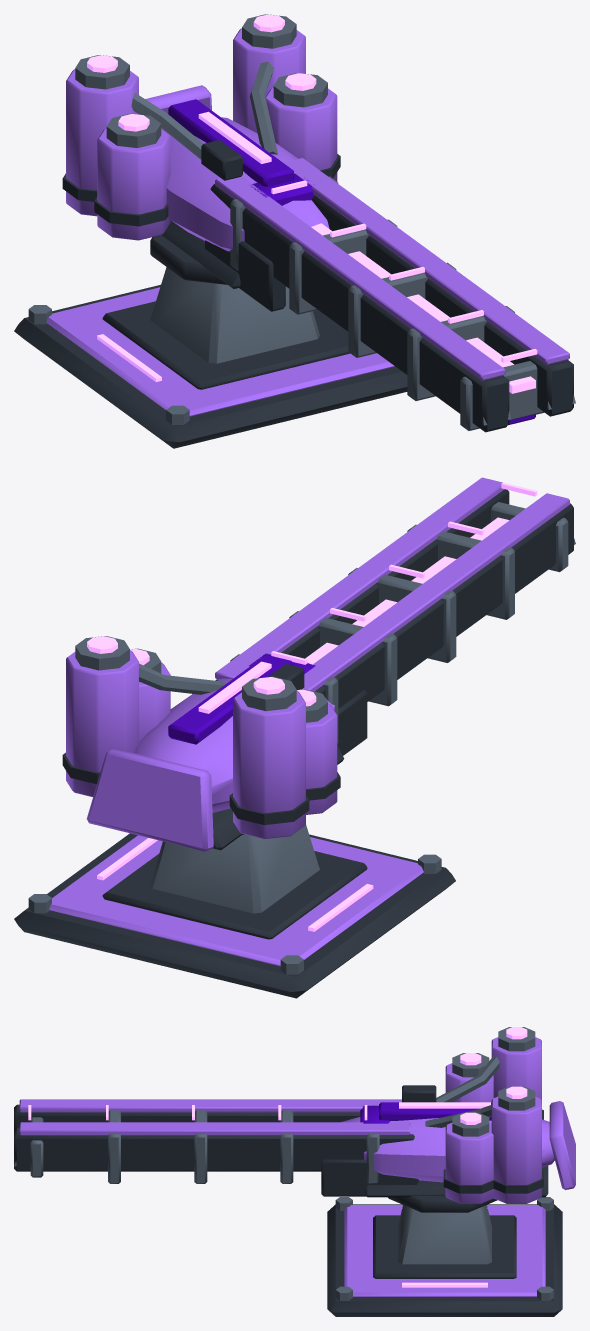
File: railgun.glb
3 renders of one model, top to bottom at view 1: azimuth 30°, elevation 25°; view 2: azimuth 150°, elevation 25°; view 3: azimuth 270°, elevation 25°, orthographic. The views are drawn at different scales.
Visible parts, largest first — view 1: turret, kick_rails, base; view 2: turret, base, kick_rails; view 3: turret, kick_rails, base.
Part boxes in pixels (x1,y1,x2,y2): turret: [62, 14, 340, 311]; kick_rails: [210, 158, 575, 432]; base: [14, 267, 407, 448]; turret: [62, 636, 367, 851]; base: [14, 824, 455, 998]; kick_rails: [215, 477, 575, 743]; turret: [321, 1027, 575, 1212]; kick_rails: [14, 1099, 414, 1183]; base: [327, 1197, 562, 1316].
Bounding box in the file's own units: 8.6 × 7.95 × 19.56.
